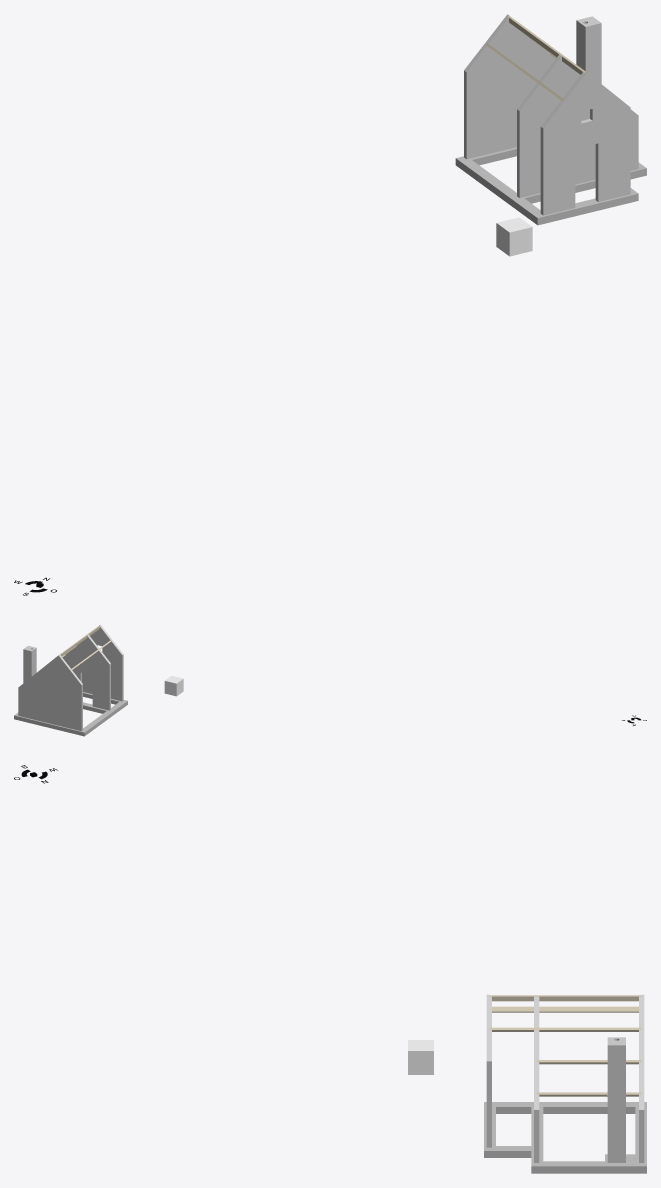
The model's file is Building-Structural.glb.
3 renders of one model, top to bottom at view 1: azimuth 30°, elevation 25°; view 2: azimuth 150°, elevation 25°; view 3: azimuth 270°, elevation 25°, orthographic. The views are drawn at different scales.
Parts seen in each view (by area): view 1: product-dc40b9a9-1d5e-40d4-8039-53778ca98ce9-body, product-0df1fb15-4d30-4715-be60-6ac075387906-body, product-aa753aea-ad67-4805-a76b-b8116f09fe9b-body, product-333f0adf-2323-419c-b100-fa5133da6d48-body, product-e7b8f2bd-610d-4a4b-863d-8be6e7d677f9-body, product-8f104696-d1c4-4375-8b96-fdc8f2d0c2e8-body; view 2: product-0df1fb15-4d30-4715-be60-6ac075387906-body, product-aa753aea-ad67-4805-a76b-b8116f09fe9b-body, product-dc40b9a9-1d5e-40d4-8039-53778ca98ce9-body, product-333f0adf-2323-419c-b100-fa5133da6d48-body, product-e7b8f2bd-610d-4a4b-863d-8be6e7d677f9-body, product-8f104696-d1c4-4375-8b96-fdc8f2d0c2e8-body; view 3: product-333f0adf-2323-419c-b100-fa5133da6d48-body, product-e7b8f2bd-610d-4a4b-863d-8be6e7d677f9-body, product-a79d5a8a-c5aa-44c0-ba6b-152cdecc511e-body, product-0df1fb15-4d30-4715-be60-6ac075387906-body, product-a9b53e19-af72-4e49-a923-6a28e9301633-body, product-dc40b9a9-1d5e-40d4-8039-53778ca98ce9-body, product-8f104696-d1c4-4375-8b96-fdc8f2d0c2e8-body, product-35ac795b-6005-49a6-a057-f6a4147bf7b7-body, product-f25d327c-46c1-4f4f-83f1-508f2a1888b7-body.
Boxes of the visible parts, box(x1,y1,x2,y2) form: product-dc40b9a9-1d5e-40d4-8039-53778ca98ce9-body: box(540, 71, 630, 215); product-0df1fb15-4d30-4715-be60-6ac075387906-body: box(464, 14, 555, 159); product-aa753aea-ad67-4805-a76b-b8116f09fe9b-body: box(517, 54, 595, 197); product-333f0adf-2323-419c-b100-fa5133da6d48-body: box(455, 147, 646, 225); product-e7b8f2bd-610d-4a4b-863d-8be6e7d677f9-body: box(576, 16, 601, 83); product-8f104696-d1c4-4375-8b96-fdc8f2d0c2e8-body: box(496, 217, 532, 256); product-0df1fb15-4d30-4715-be60-6ac075387906-body: box(18, 655, 82, 731); product-aa753aea-ad67-4805-a76b-b8116f09fe9b-body: box(62, 634, 110, 710); product-dc40b9a9-1d5e-40d4-8039-53778ca98ce9-body: box(82, 624, 123, 701); product-333f0adf-2323-419c-b100-fa5133da6d48-body: box(14, 692, 127, 736); product-e7b8f2bd-610d-4a4b-863d-8be6e7d677f9-body: box(23, 645, 36, 682); product-8f104696-d1c4-4375-8b96-fdc8f2d0c2e8-body: box(164, 675, 183, 696); product-333f0adf-2323-419c-b100-fa5133da6d48-body: box(484, 1102, 646, 1173); product-e7b8f2bd-610d-4a4b-863d-8be6e7d677f9-body: box(607, 1037, 625, 1162); product-a79d5a8a-c5aa-44c0-ba6b-152cdecc511e-body: box(489, 995, 641, 1001); product-0df1fb15-4d30-4715-be60-6ac075387906-body: box(639, 994, 644, 1162); product-a9b53e19-af72-4e49-a923-6a28e9301633-body: box(492, 1006, 638, 1012); product-dc40b9a9-1d5e-40d4-8039-53778ca98ce9-body: box(486, 994, 491, 1147); product-8f104696-d1c4-4375-8b96-fdc8f2d0c2e8-body: box(408, 1040, 433, 1074); product-35ac795b-6005-49a6-a057-f6a4147bf7b7-body: box(489, 1027, 641, 1031); product-f25d327c-46c1-4f4f-83f1-508f2a1888b7-body: box(534, 1064, 539, 1162).
Size of the model in its own units: 38.34 by 6.58 by 24.09.
